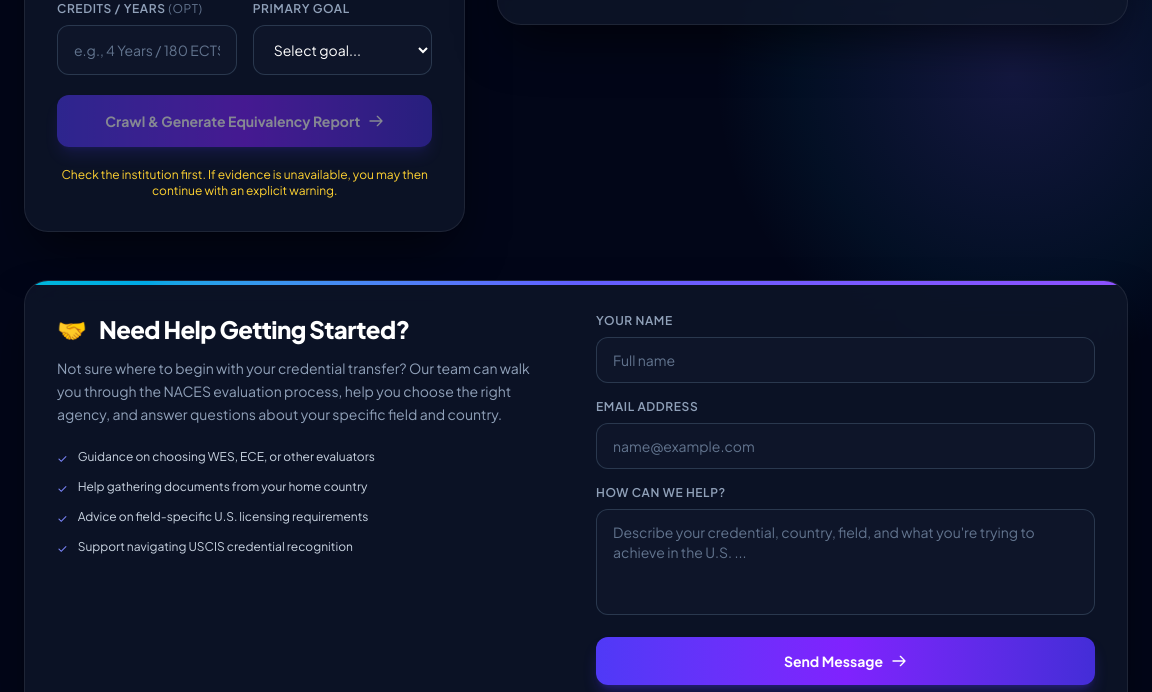
Test case: Contact form — Web3Forms submission › keeps the form visible and translates a rejected submission error
The image size is (1152, 692).
(page scrolled)
Expected: the form with test id "form-contact" is shown, 596,313 -> 1095,685
Type "Andrew Tester" into the field with test id "input-contact-name". click: (846, 360)
box: 596,337 -> 1095,383
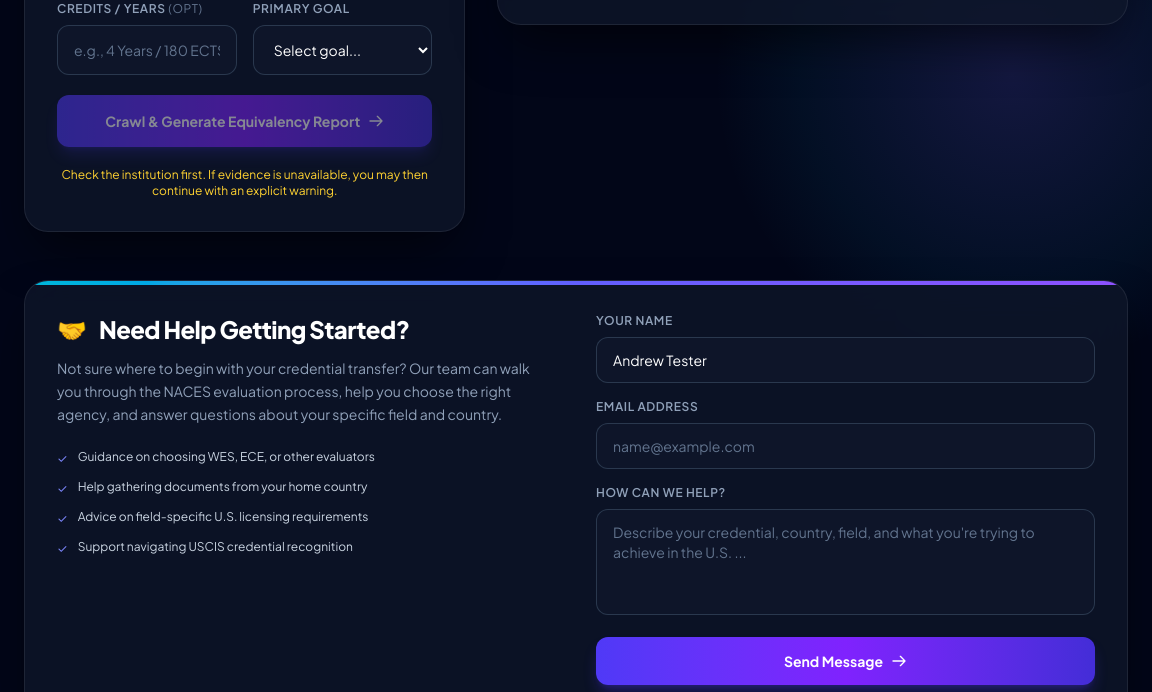
Type "andrew@example.com" into the field with test id "input-contact-email". click: (846, 446)
box: 596,423 -> 1095,469
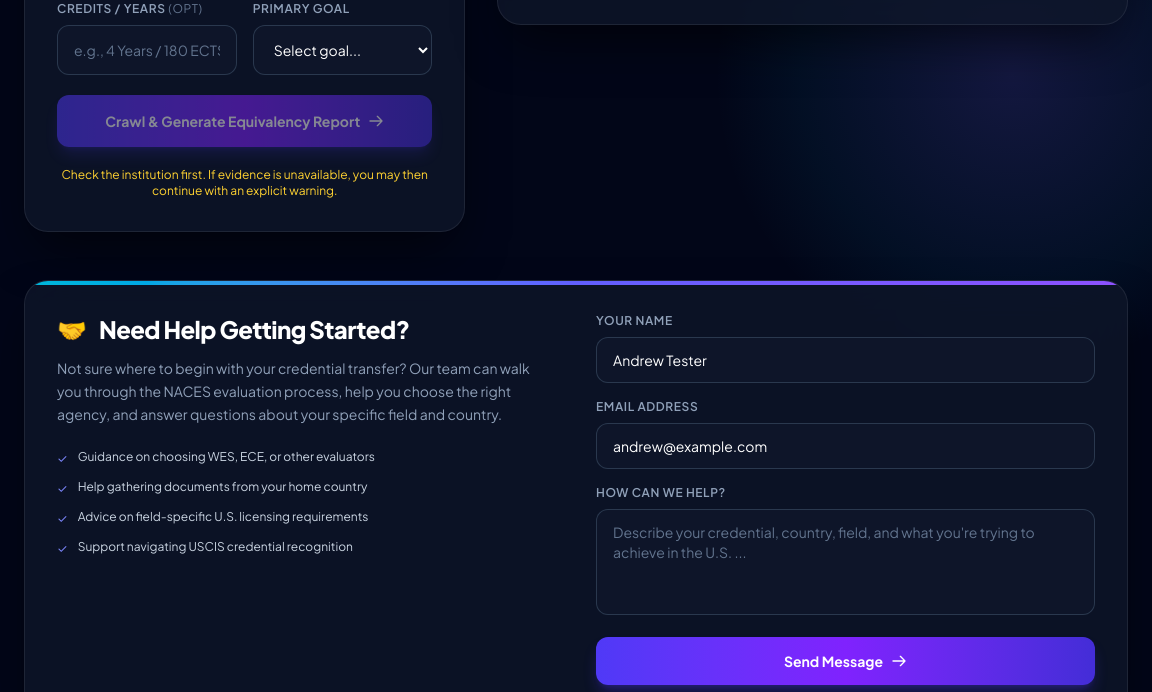
Replace the text in the text box with test id "input-contact-message" with "This is a contact form test.". click: (846, 562)
box: 596,509 -> 1095,615
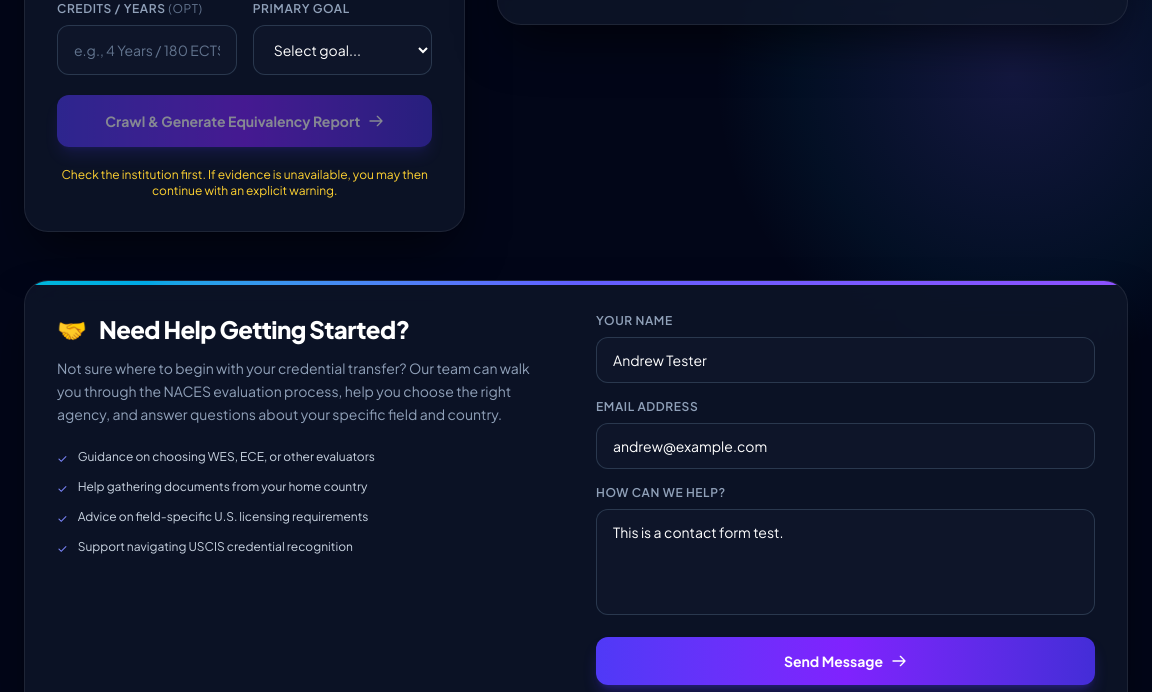
Submit the form with test id "form-contact", box 596,313 -> 1095,685
(page scrolled)
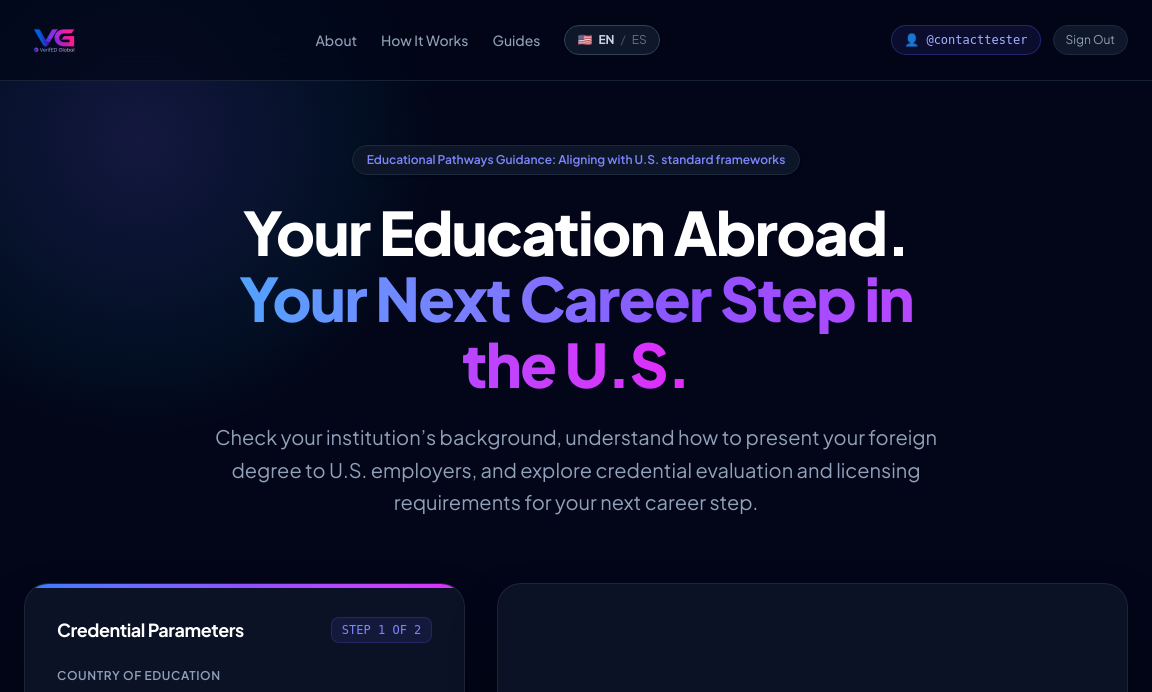
Click the button with test id "button-lang-toggle". click: (612, 40)
box: 564,25 -> 660,55
(page scrolled)
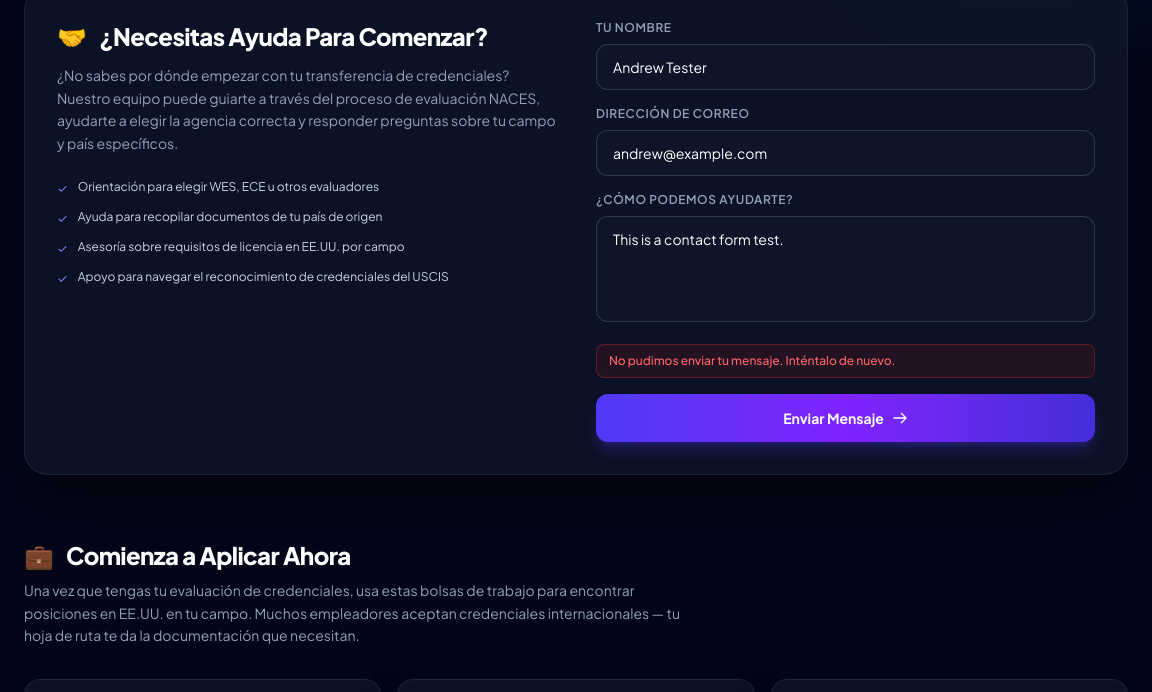
Result: the text "No pudimos enviar tu mensaje. Inténtalo de nuevo." is shown at 596,344 -> 1095,378
